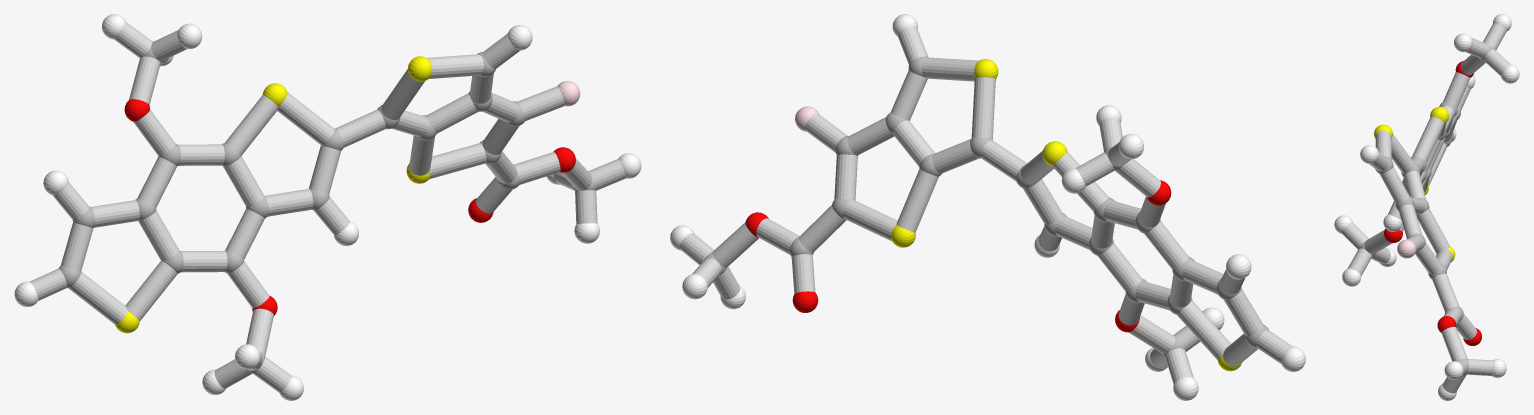
Rendered from Dimethoxy_Benzodithiophene_Phi_5_Theta_230_Methylcarbonyl_3_Fluoro_Thienothiophene.glb.
3 views of the same model, side by side, from view 1: azimuth 30°, elevation 25°; view 2: azimuth 150°, elevation 25°; view 3: azimuth 270°, elevation 25° (orthographic). The views are drawn at different scales.
Parts seen in each view (by area): view 1: grp15205, grp8689, grp1, grp7241, grp13395; view 2: grp15205, grp8689, grp1, grp7241, grp13395; view 3: grp15205, grp8689, grp1, grp13395, grp7241, grp14843.
Part boxes in pixels (bbox=[...]): grp15205: bbox=[29, 22, 626, 392]; grp8689: bbox=[14, 14, 641, 400]; grp1: bbox=[58, 41, 595, 373]; grp7241: bbox=[115, 56, 432, 333]; grp13395: bbox=[124, 99, 575, 315]; grp15205: bbox=[680, 27, 1292, 383]; grp8689: bbox=[670, 14, 1305, 400]; grp1: bbox=[704, 56, 1268, 357]; grp7241: bbox=[891, 59, 1242, 371]; grp13395: bbox=[745, 180, 1171, 332]; grp15205: bbox=[1341, 23, 1510, 393]; grp8689: bbox=[1334, 14, 1519, 400]; grp1: bbox=[1359, 45, 1494, 375]; grp13395: bbox=[1384, 61, 1481, 345]; grp7241: bbox=[1374, 106, 1455, 261]; grp14843: bbox=[1397, 239, 1415, 258].
Size of the model in its own units: 16.99 by 8.49 by 5.84.
